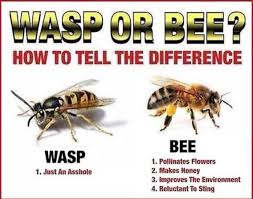bee: (141, 69, 236, 137)
chax: (7, 74, 124, 145)
